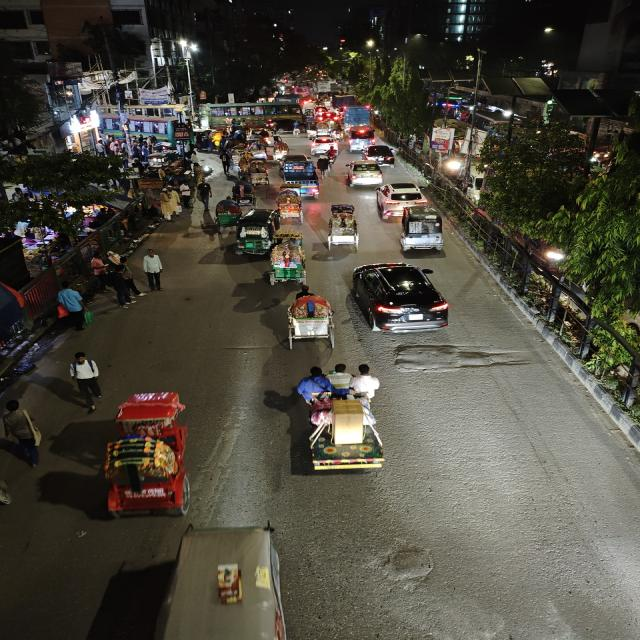bus: (203, 103, 306, 124), (154, 117, 193, 143)
car: (347, 260, 460, 337), (374, 181, 428, 211), (344, 160, 384, 190), (362, 143, 399, 165), (346, 130, 378, 152), (308, 133, 338, 153)
cng: (396, 206, 449, 252), (233, 209, 280, 257)
pedestrian: (64, 349, 108, 411), (95, 259, 140, 308), (51, 280, 91, 332), (140, 247, 168, 291), (159, 187, 182, 223), (86, 253, 110, 284), (193, 182, 215, 208), (178, 183, 195, 211), (218, 148, 236, 174)
pickup_van: (278, 156, 322, 196)
rickshaw: (288, 356, 398, 480), (96, 387, 196, 523), (273, 288, 348, 351), (262, 233, 310, 287), (322, 202, 363, 250), (276, 188, 304, 222), (213, 199, 241, 233), (231, 179, 256, 206), (248, 162, 272, 189), (250, 142, 270, 162)
truck: (341, 106, 374, 130)
